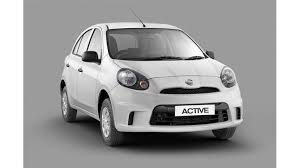Nissan: (68, 23, 242, 129)
